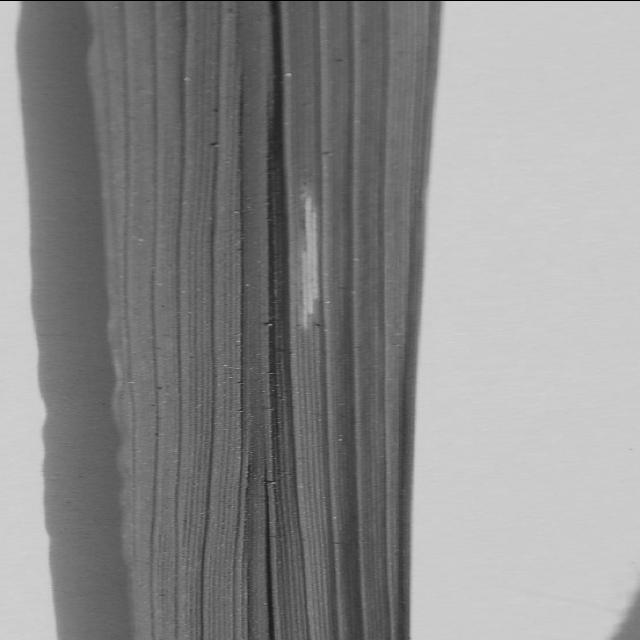Bacterial_Leaf_Blight: (207, 130, 380, 425)
